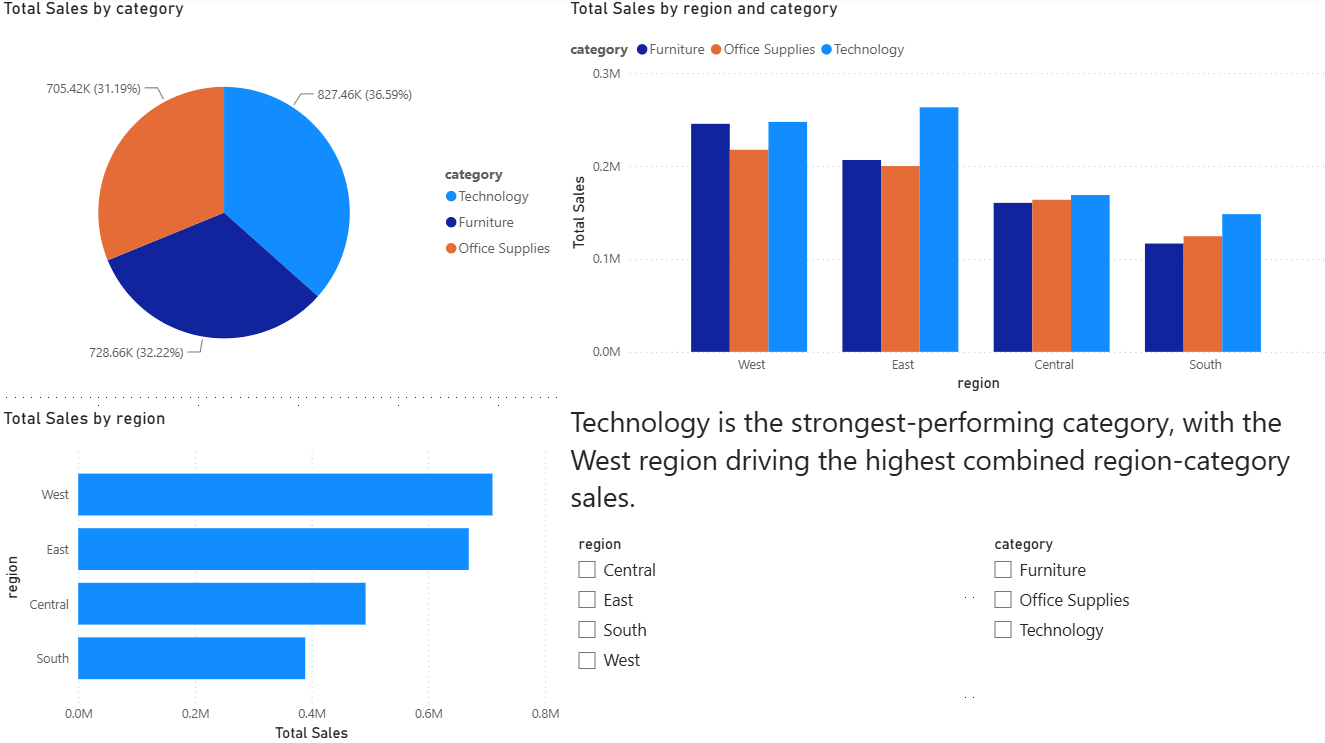

This screenshot's page, from the dashboard's own definition file:
{"tool":"powerbi","page":{"name":"Regional & Category","canvas":[1280,720],"ordinal":1},"visuals":[{"type":"clusteredColumnChart","fields":{"Series":["clean_sales.category"],"Category":["clean_sales.region"],"Y":["clean_sales.Total Sales"]},"box":[544,0,736,384],"z":0},{"type":"pieChart","fields":{"Category":["clean_sales.category"],"Y":["clean_sales.Total Sales"]},"box":[0,0,544,384],"z":1000},{"type":"barChart","fields":{"Category":["clean_sales.region"],"Y":["clean_sales.Total Sales"]},"box":[0,394,544,326],"z":2000},{"type":"textbox","box":[544,400,736,128],"z":3000},{"type":"slicer","fields":{"Values":["clean_sales.region"]},"box":[544,512,384,208],"z":4000},{"type":"slicer","fields":{"Values":["clean_sales.category"]},"box":[944,512,336,208],"z":5000}]}

Visuals, with their boxes in screenshot pixels (x1, y1, x2, y2), scaled from the page's 1280x720 canvas onto the 1325x743 screenshot:
clusteredColumnChart - clean_sales.category x clean_sales.region: pyautogui.locateOnScreen(563, 0, 1324, 396)
pieChart - clean_sales.category x clean_sales.Total Sales: pyautogui.locateOnScreen(0, 0, 563, 396)
barChart - clean_sales.region x clean_sales.Total Sales: pyautogui.locateOnScreen(0, 407, 563, 742)
textbox: pyautogui.locateOnScreen(563, 413, 1324, 545)
slicer - clean_sales.region: pyautogui.locateOnScreen(563, 528, 961, 742)
slicer - clean_sales.category: pyautogui.locateOnScreen(977, 528, 1324, 742)
